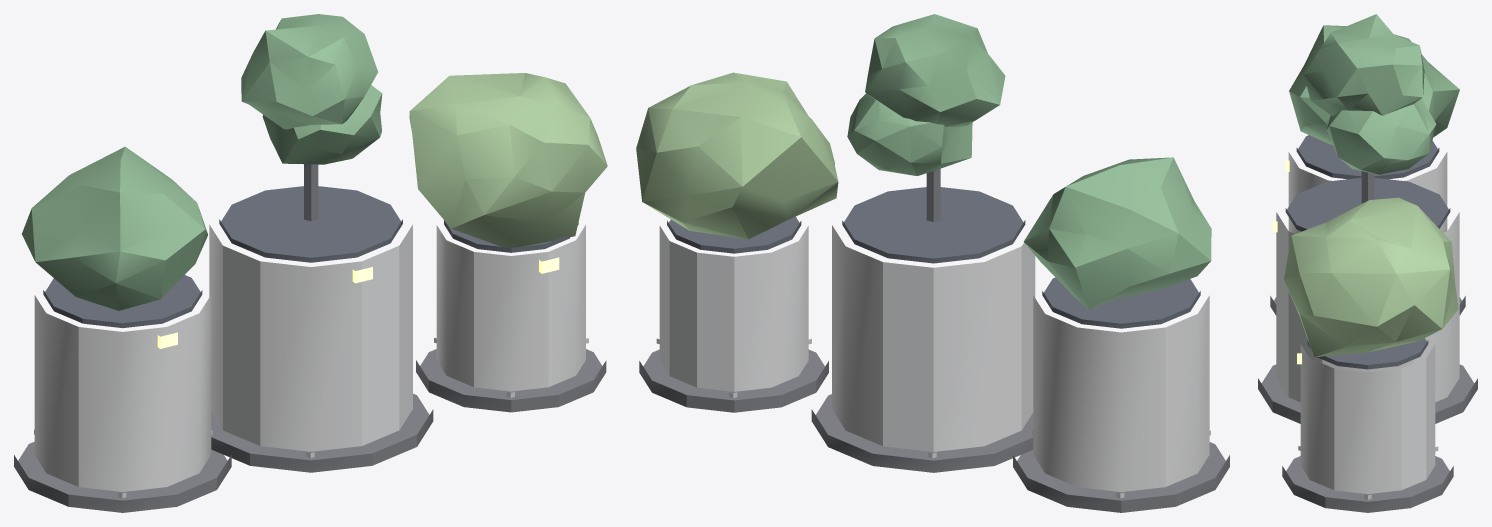
The model's file is potted_plants_moulded_trio.glb.
3 views of the same model, side by side, from view 1: azimuth 30°, elevation 25°; view 2: azimuth 150°, elevation 25°; view 3: azimuth 270°, elevation 25° (orthographic). The views are drawn at different scales.
Parts seen in each view (by area): view 1: Pots, Foliage, Foliage_Light, Clamp_Rings, Grow_Lids, Stems, Pot_Latches; view 2: Pots, Foliage, Foliage_Light, Grow_Lids, Clamp_Rings, Stems; view 3: Pots, Foliage_Light, Foliage, Grow_Lids, Clamp_Rings, Stems.
Part boxes in pixels (<box>): Pots: <box>34,224,585,491</box>; Foliage: <box>22,14,382,310</box>; Foliage_Light: <box>409,73,607,247</box>; Clamp_Rings: <box>14,349,606,512</box>; Grow_Lids: <box>43,186,578,328</box>; Stems: <box>304,164,318,221</box>; Pot_Latches: <box>157,257,559,348</box>; Pots: <box>659,225,1209,491</box>; Foliage: <box>847,14,1211,309</box>; Foliage_Light: <box>636,72,838,239</box>; Grow_Lids: <box>667,187,1200,328</box>; Clamp_Rings: <box>639,349,1229,512</box>; Stems: <box>926,168,940,221</box>; Pots: <box>1276,152,1459,493</box>; Foliage_Light: <box>1284,197,1458,357</box>; Foliage: <box>1289,14,1459,174</box>; Grow_Lids: <box>1285,135,1450,369</box>; Clamp_Rings: <box>1258,296,1477,512</box>; Stems: <box>1361,171,1374,203</box>.
Size of the model in its own units: 0.9752 by 0.6448 by 0.36.
